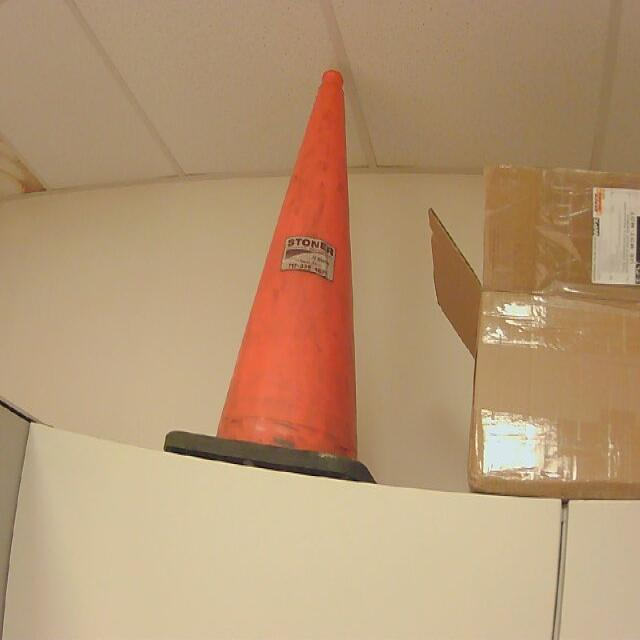traffic cone: (165, 70, 374, 484)
